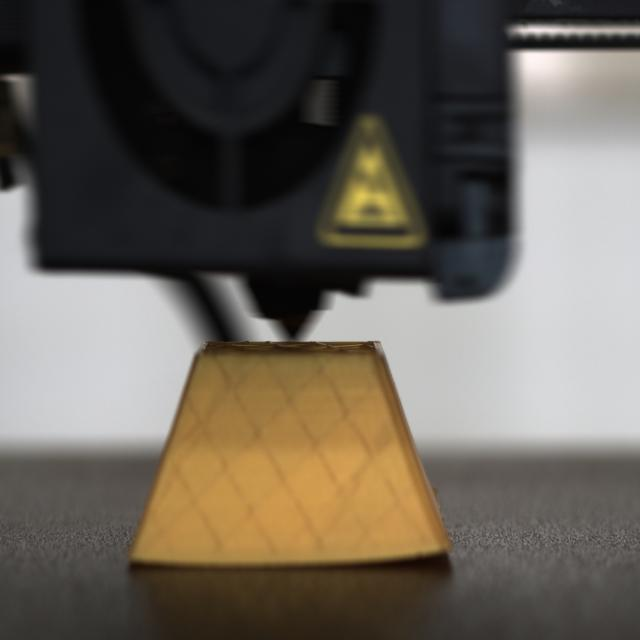Warping: (378, 541, 453, 572)
